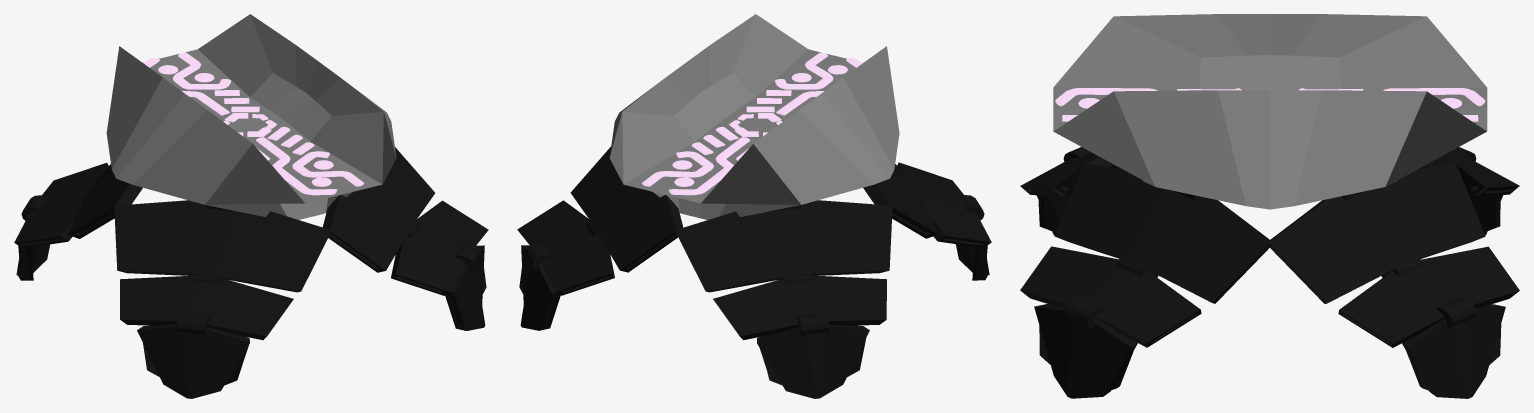
Rendered from I_rail.fbx.
3 renders of one model, left to right at view 1: azimuth 30°, elevation 25°; view 2: azimuth 150°, elevation 25°; view 3: azimuth 270°, elevation 25°, orthographic. The views are drawn at different scales.
Parts seen in each view (by area): view 1: runes.046; view 2: runes.046; view 3: runes.046.
Boxes of the visible parts, left/top/right/bottom form: runes.046: left=14, top=14, right=488, bottom=398; runes.046: left=517, top=14, right=991, bottom=398; runes.046: left=1020, top=14, right=1519, bottom=398.
Size of the model in its own units: 418 by 241 by 418.
